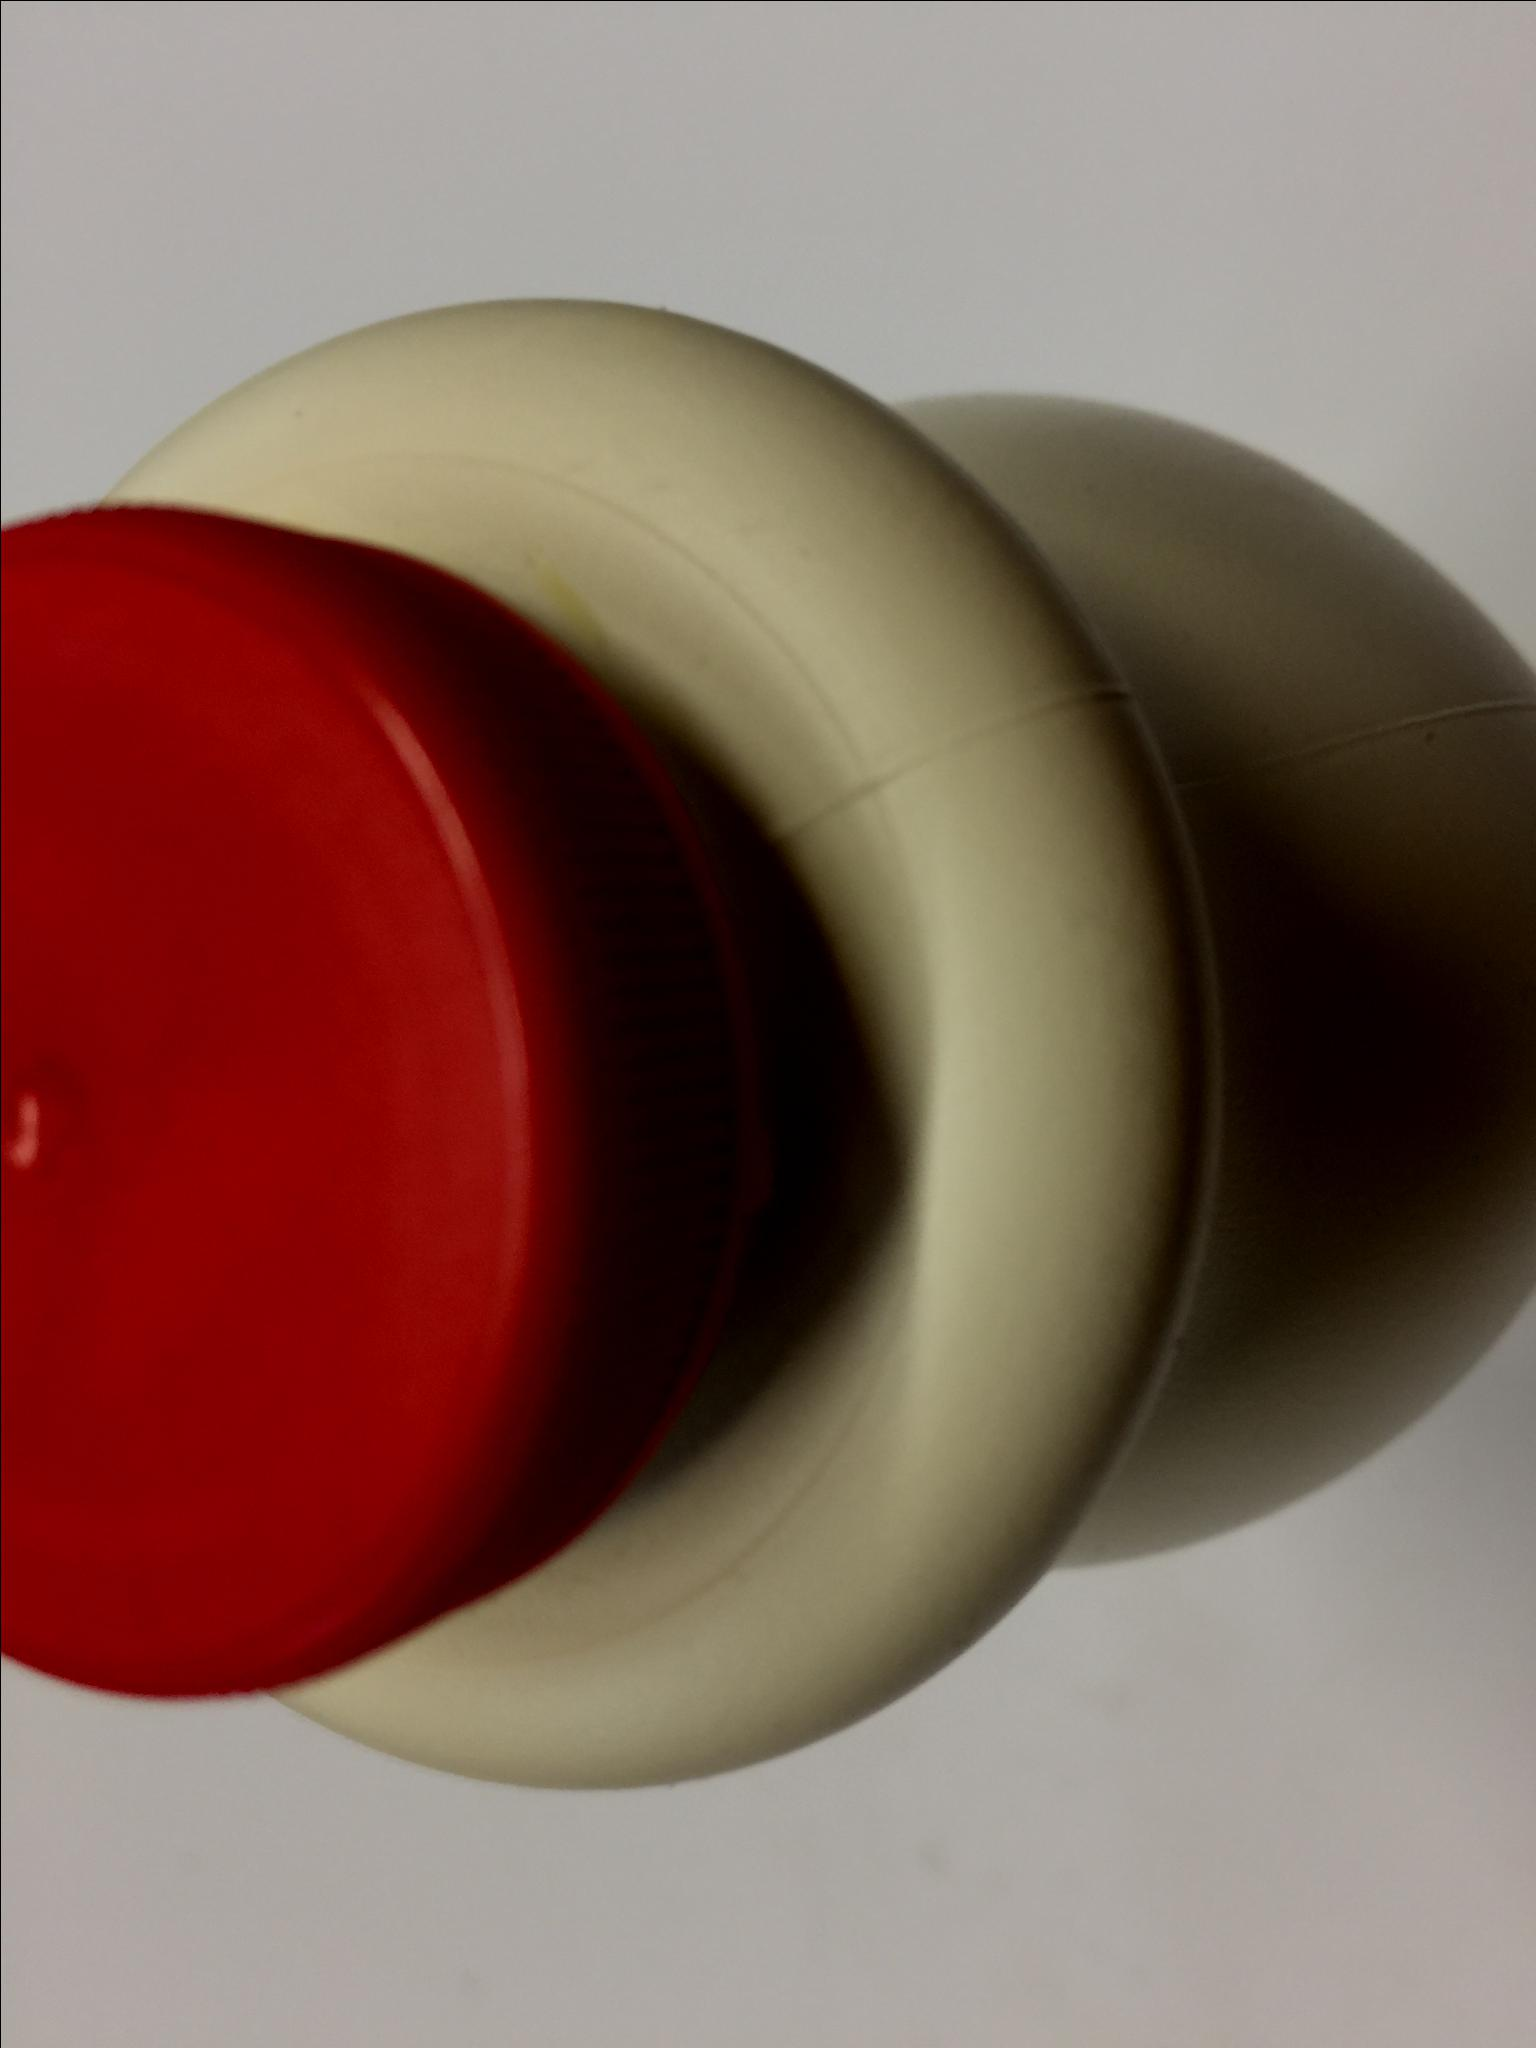Plastic: (2, 269, 1534, 1808)
